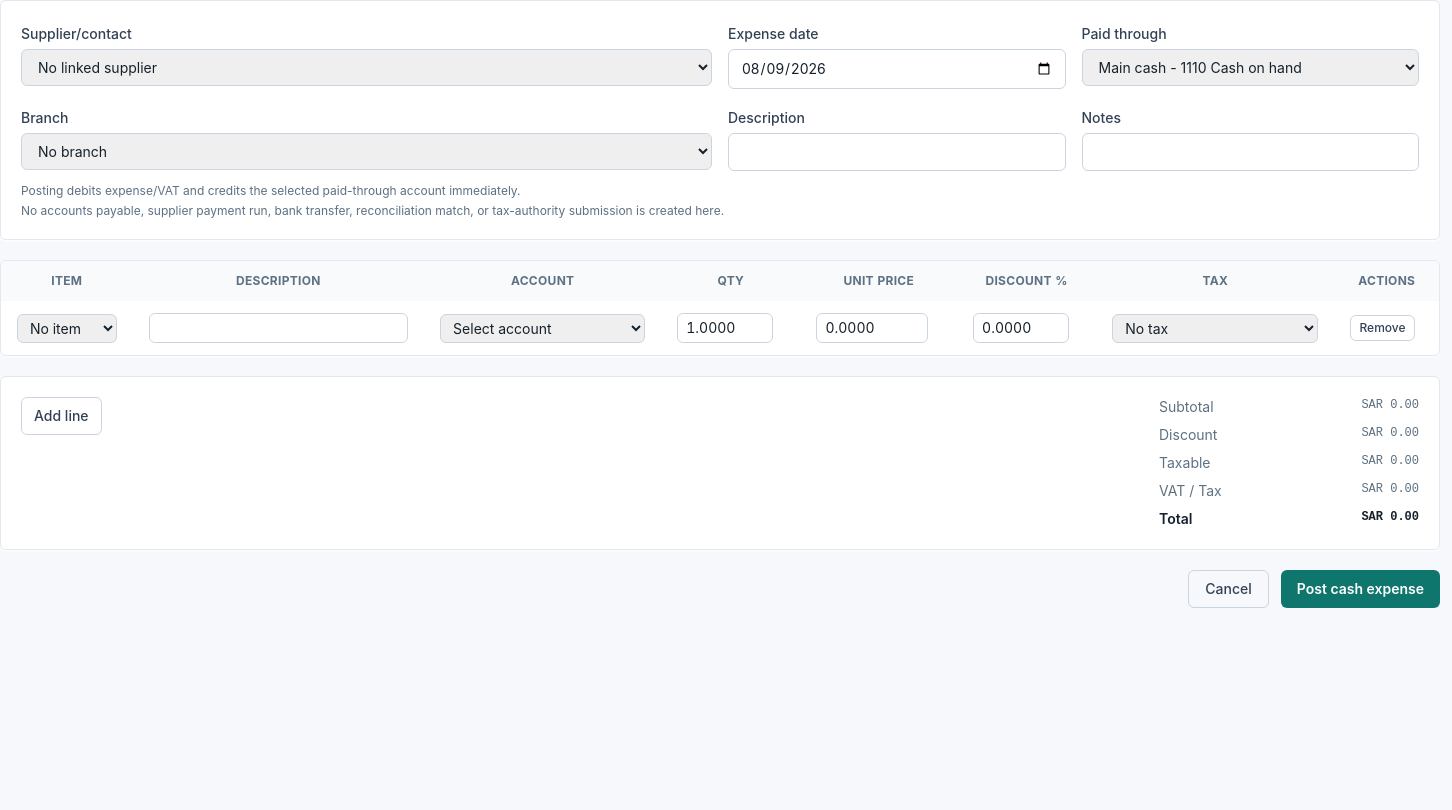
Test case: CashExpenseForm › rejects a stale supplier query id that is not in the active organization setup data
Expected: the dropdown labelled "Paid through" shows "Main cash - 1110 Cash on hand", [1082,49,1419,86]
Type "Office supplies" into the 3rd field at (278, 328), box [149,313,408,343]
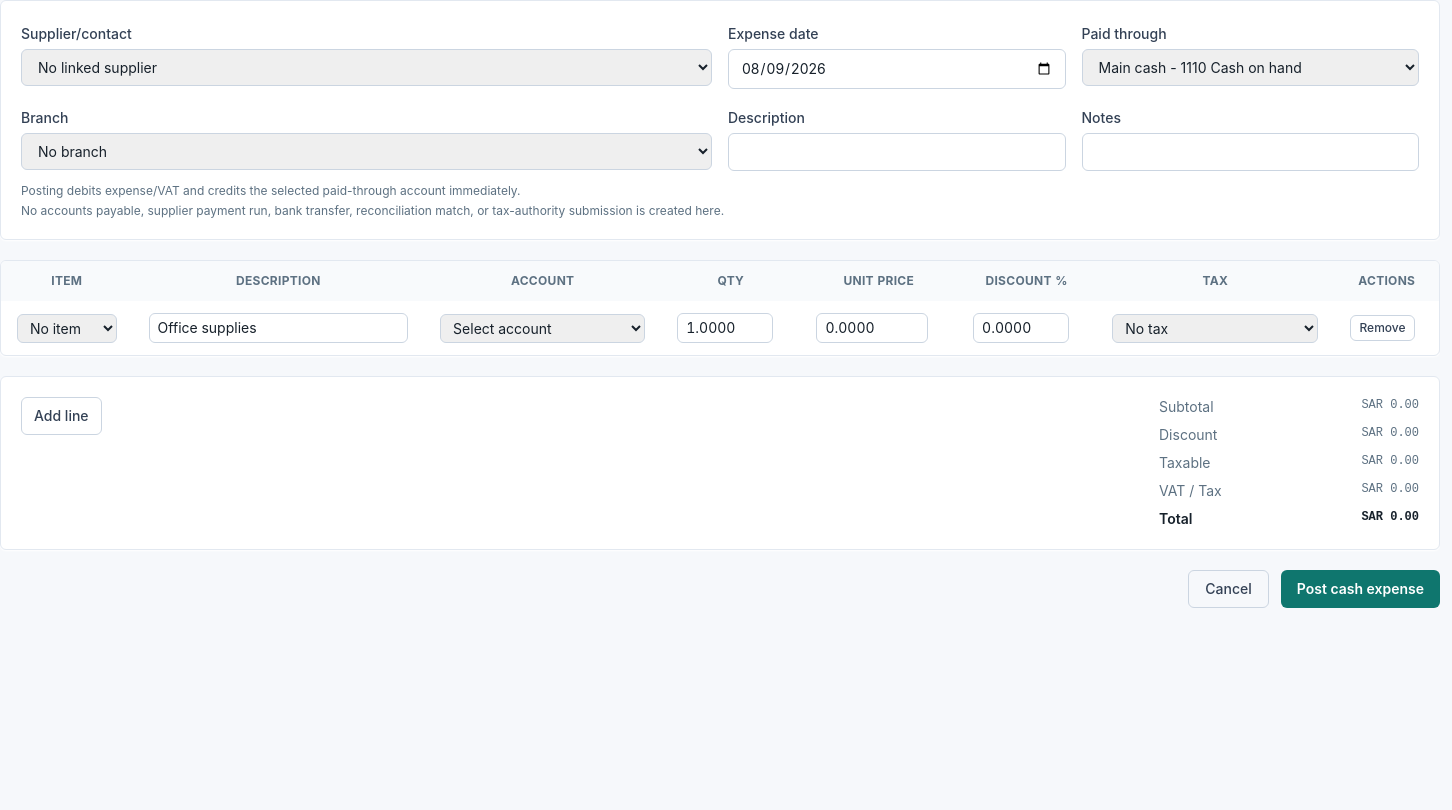
Replace the text in the 5th field with "100.0000" at (872, 328), box [816,313,928,343]
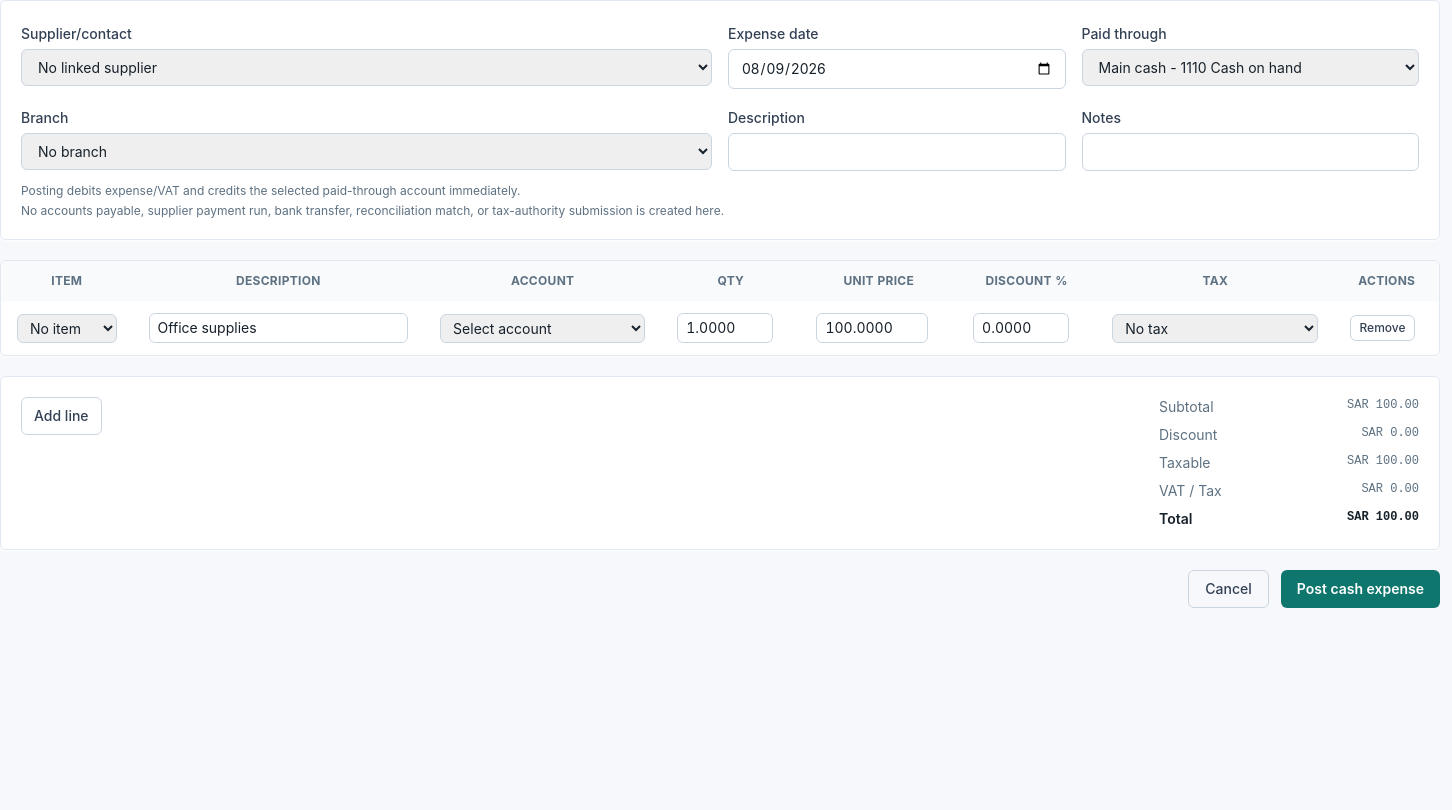
Select "5100 Office expenses" in the 5th dropdown at (543, 328), box [440,314,645,342]
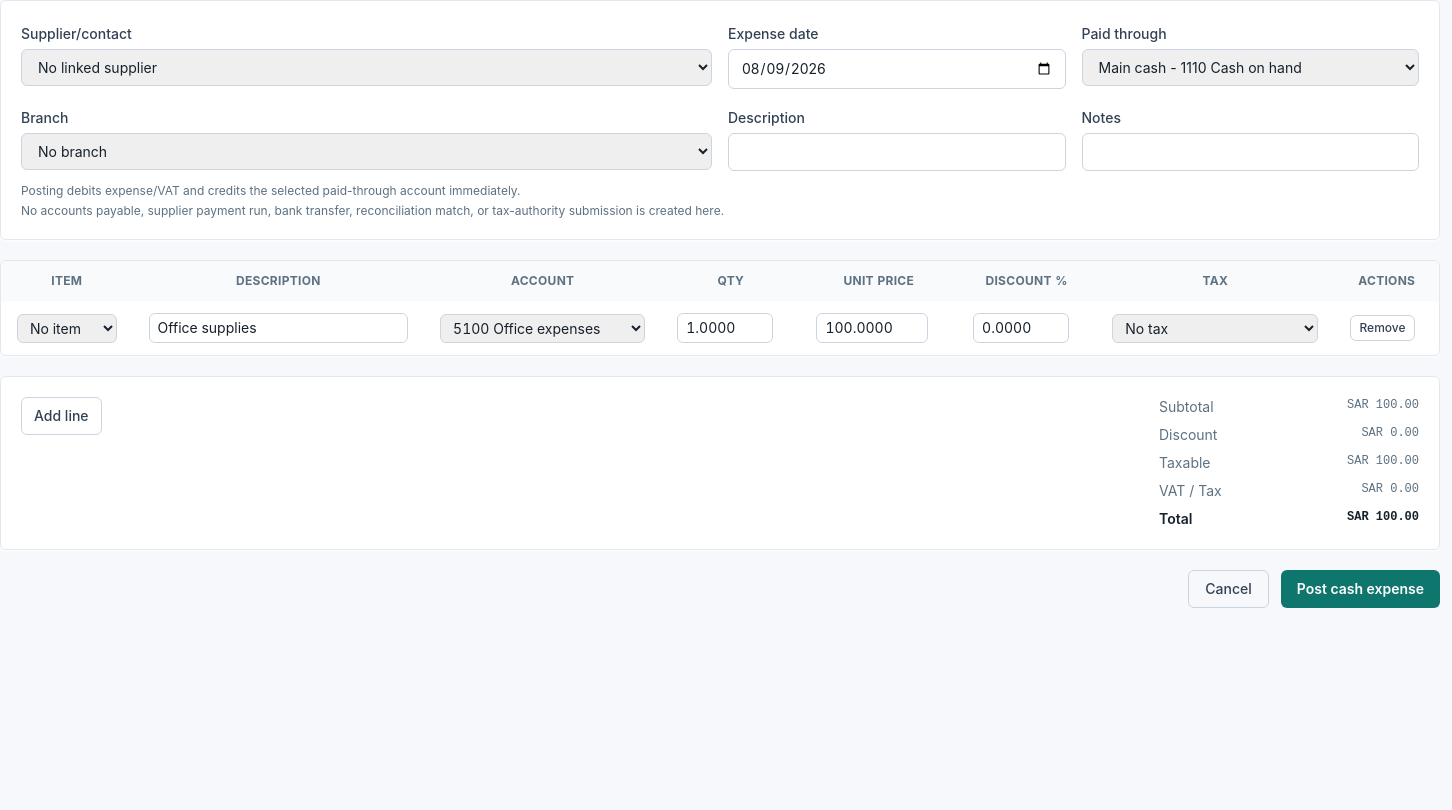
Click the button "Post cash expense" at (1360, 589), box [1281,570,1440,608]
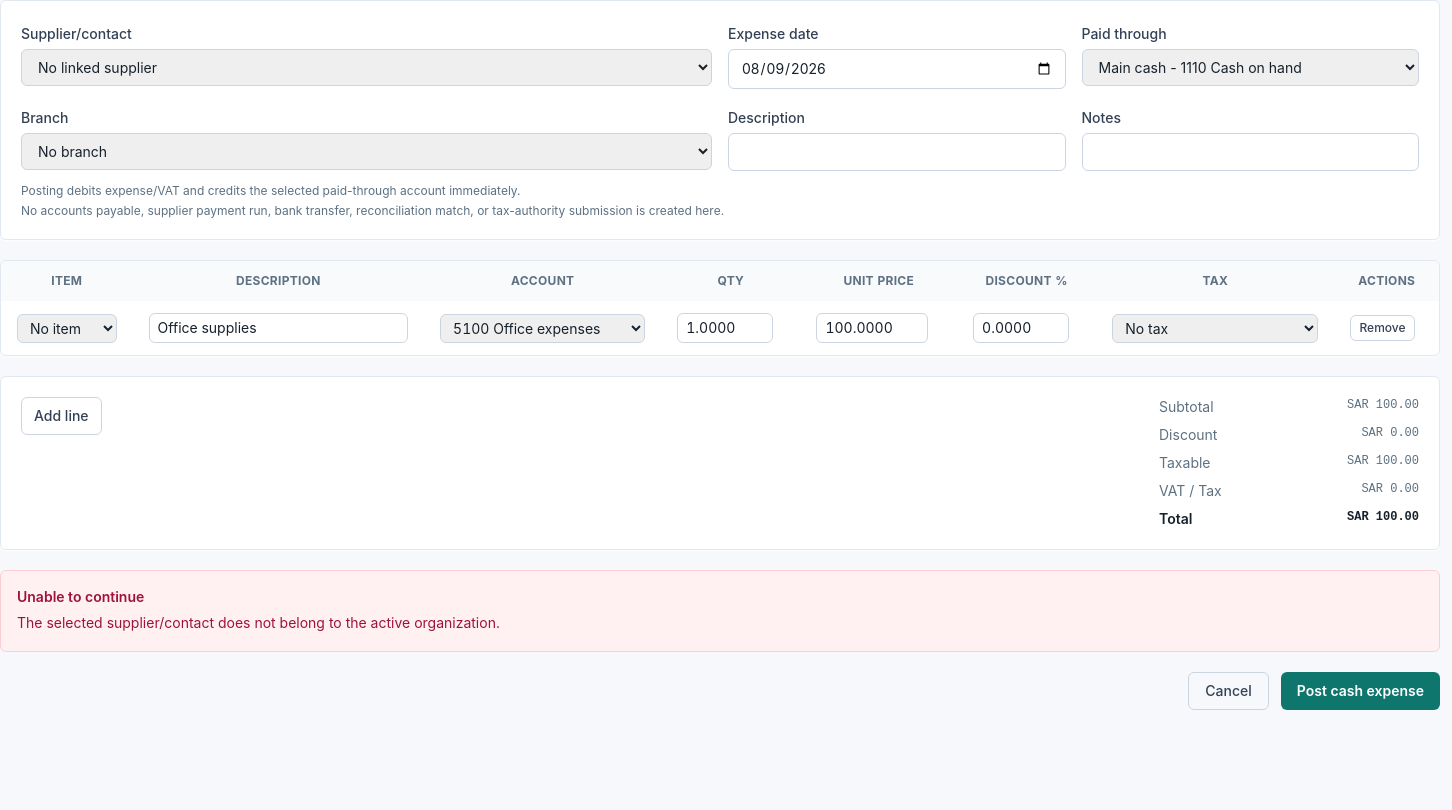
Result: the text "supplier/contact does not belong to the active organization" is shown at [17,614,500,631]
